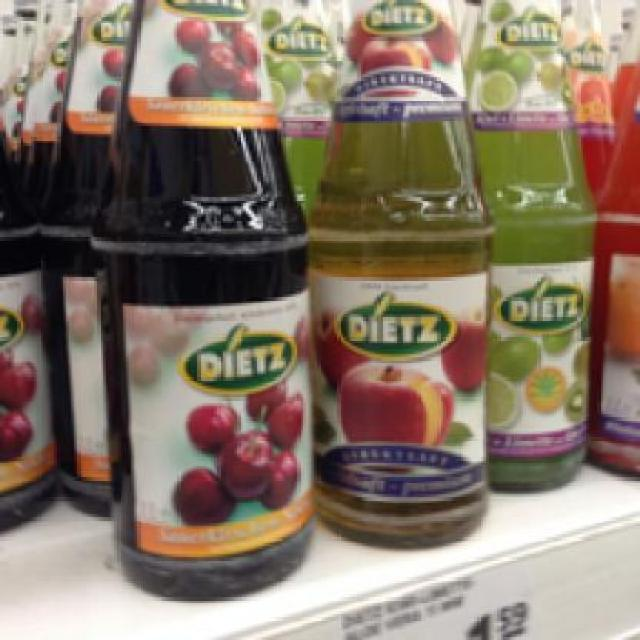Juice: (85, 0, 308, 597), (303, 0, 492, 549), (456, 0, 592, 492)
